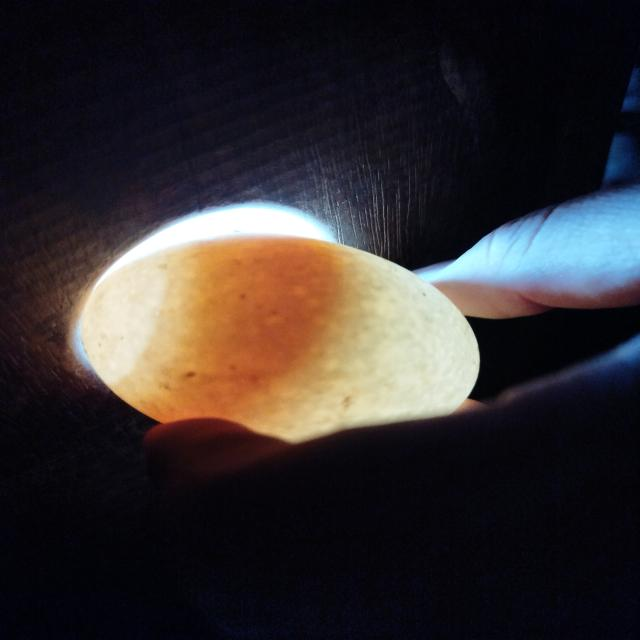Camara de Ar: (82, 257, 162, 385)
Gema Quebrada: (141, 234, 346, 420)
